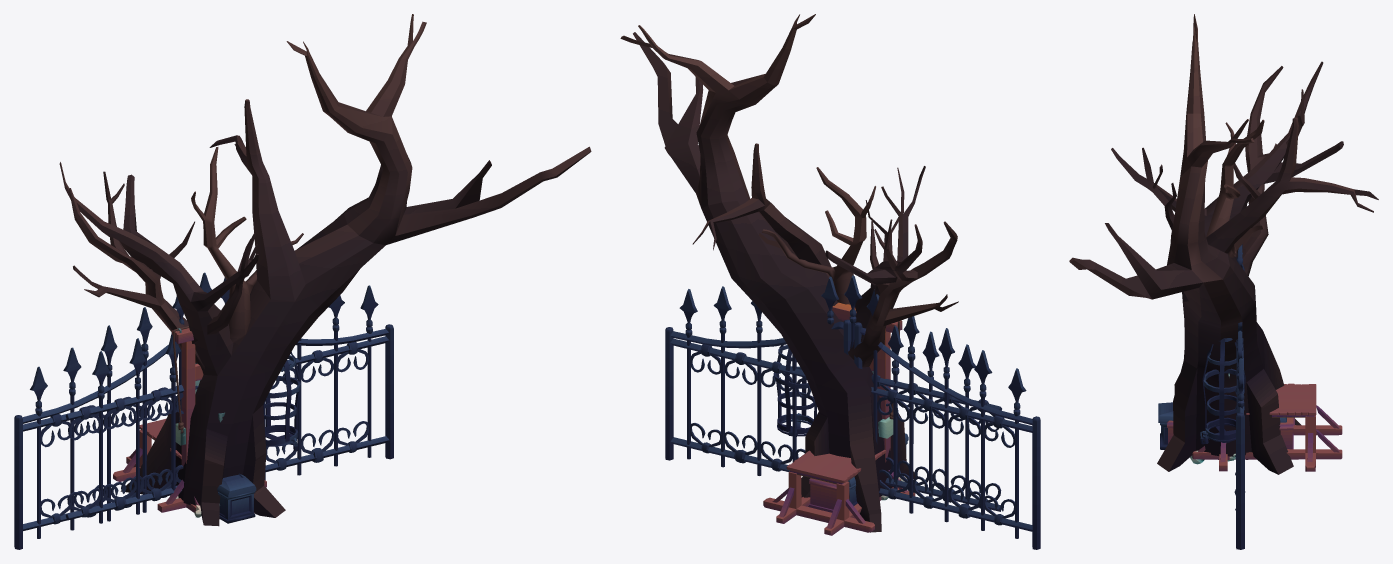
The model's file is All_Halloween_Assets.fbx.
3 renders of one model, left to right at view 1: azimuth 30°, elevation 25°; view 2: azimuth 150°, elevation 25°; view 3: azimuth 270°, elevation 25°, orthographic. The views are drawn at different scales.
Parts seen in each view (by area): view 1: Dead_Tree2, Iron_Gate_Left, Dead_Tree1, Iron_Gate_Right, Iron_Fence_Full, Guillotine, Gibbet_Cage1, Coffin_Vampire_Case; view 2: Dead_Tree2, Iron_Gate_Left, Iron_Gate_Right, Dead_Tree1, Guillotine, Iron_Fence_Full, Gibbet_Cage1, Coffin_Base_Lid; view 3: Dead_Tree2, Dead_Tree1, Guillotine, Gibbet_Cage1, Iron_Gate_Right, Coffin_Base_Lid.
Part boxes in pixels (box(x1,y1,x2,y2)): Dead_Tree2: box(59, 14, 591, 526); Iron_Gate_Left: box(14, 296, 184, 549); Dead_Tree1: box(69, 147, 303, 369); Iron_Gate_Right: box(221, 277, 393, 480); Iron_Fence_Full: box(65, 332, 198, 523); Guillotine: box(113, 326, 266, 512); Gibbet_Cage1: box(264, 352, 300, 451); Coffin_Vampire_Case: box(218, 491, 255, 523); Dead_Tree2: box(620, 14, 925, 532); Iron_Gate_Left: box(854, 289, 1040, 549); Iron_Gate_Right: box(665, 276, 851, 475); Dead_Tree1: box(759, 167, 958, 367); Guillotine: box(763, 320, 915, 535); Iron_Fence_Full: box(886, 325, 1001, 511); Gibbet_Cage1: box(773, 345, 816, 436); Coffin_Base_Lid: box(809, 480, 836, 512); Dead_Tree2: box(1069, 14, 1378, 474); Dead_Tree1: box(1142, 66, 1304, 459); Guillotine: box(1192, 383, 1342, 471); Gibbet_Cage1: box(1200, 338, 1245, 444); Iron_Gate_Right: box(1234, 244, 1245, 549); Coffin_Base_Lid: box(1167, 423, 1293, 449).
Bounding box in the file's own units: 32.3 × 28.99 × 17.23.
